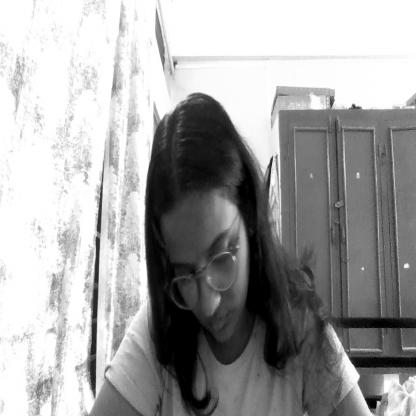Distracted: (145, 90, 260, 362)
